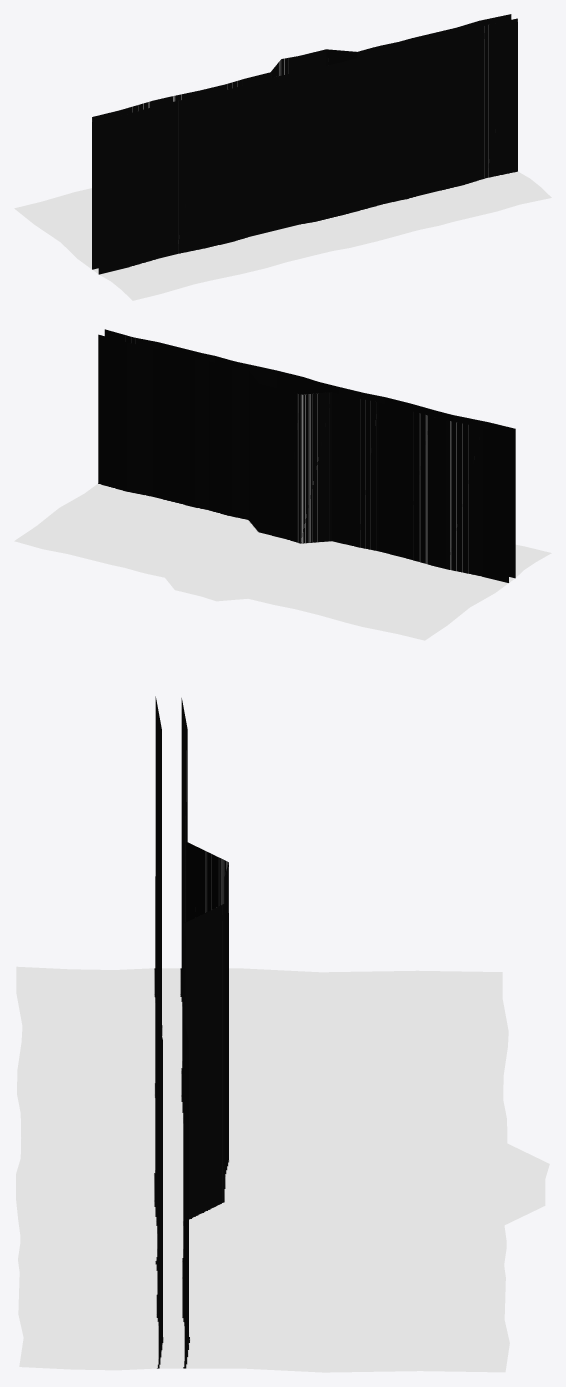
Rendered from Area8Mesh.fbx.
3 views of the same model, one above another, from view 1: azimuth 30°, elevation 25°; view 2: azimuth 150°, elevation 25°; view 3: azimuth 270°, elevation 25° (orthographic). The views are drawn at different scales.
Visible parts, largest first — view 1: Wall1, Terrain, Wall2; view 2: Wall2, Terrain, Wall1; view 3: Terrain, Wall2, Traversable, Wall1.
Part boxes in pixels (box(x1,y1,x2,y2)): Wall1: box(98, 18, 517, 274); Terrain: box(14, 171, 551, 300); Wall2: box(92, 14, 511, 269); Wall2: box(98, 334, 508, 582); Terrain: box(14, 483, 551, 640); Wall1: box(104, 329, 515, 577); Terrain: box(16, 966, 549, 1372); Wall2: box(181, 698, 228, 1366); Traversable: box(158, 968, 184, 1368); Wall1: box(155, 696, 162, 1366).
Bounding box in the file's own units: 27567 × 9464 × 15322.
Materials: 1 (1 with a texture image).
